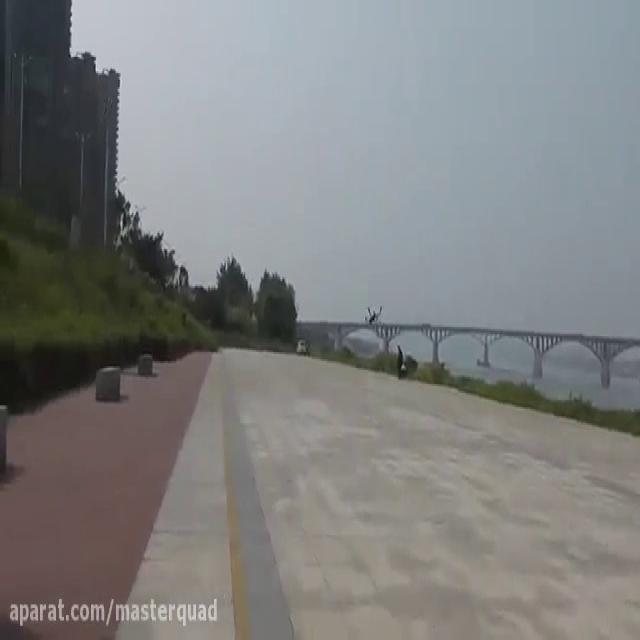drone: (362, 300, 383, 326)
